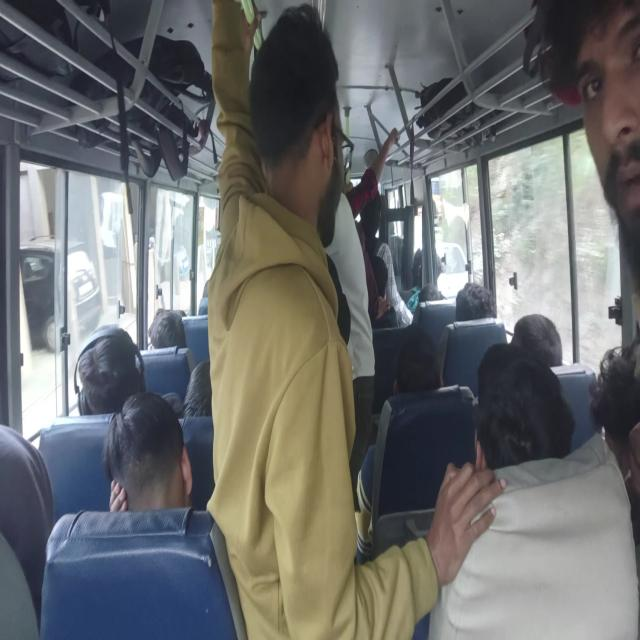person: (254, 48, 334, 269), (486, 361, 601, 500), (565, 40, 640, 231), (90, 430, 193, 540), (314, 212, 378, 384), (0, 435, 56, 550), (388, 336, 452, 420), (597, 351, 640, 457), (76, 332, 134, 407), (519, 295, 551, 366), (185, 358, 221, 410), (362, 182, 389, 242), (462, 281, 497, 322), (148, 306, 194, 335), (372, 273, 400, 318), (417, 275, 443, 310)
